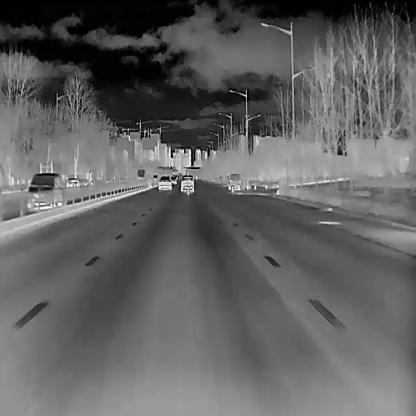bus: (135, 168, 145, 180)
car: (26, 171, 62, 209), (180, 174, 193, 194), (228, 172, 241, 190), (157, 175, 171, 189), (168, 174, 176, 184)
